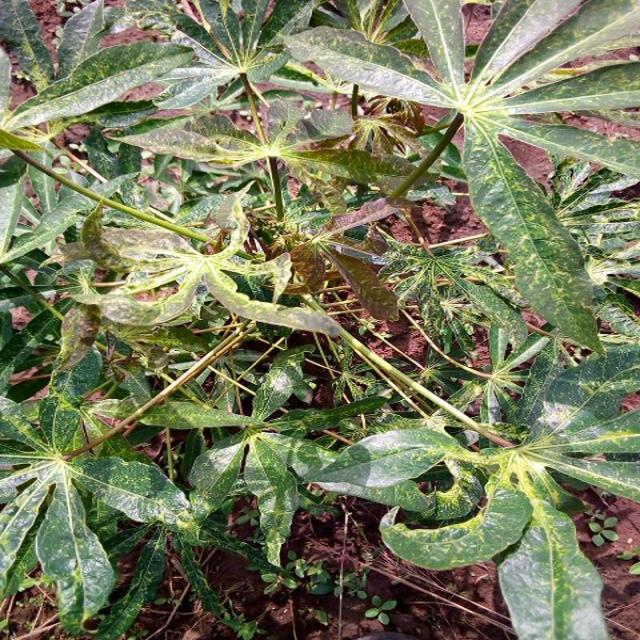cassava leaf: (0, 0, 638, 638), (281, 0, 638, 355)
